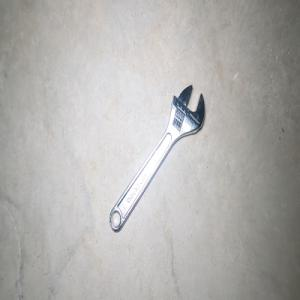Wrench: (109, 84, 204, 232)
